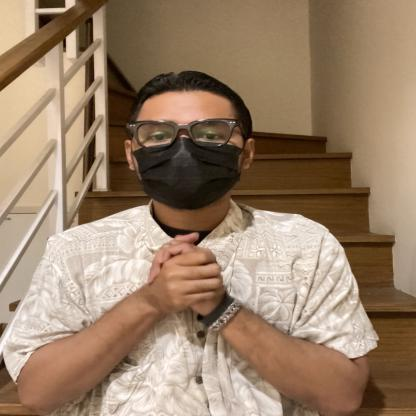Grieve: (78, 220, 314, 348)
